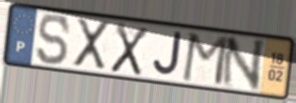J: (151, 30, 183, 78)
M: (180, 31, 230, 88)
N: (218, 36, 269, 93)
S: (36, 12, 72, 67)
X: (108, 21, 151, 79), (72, 17, 111, 72)
